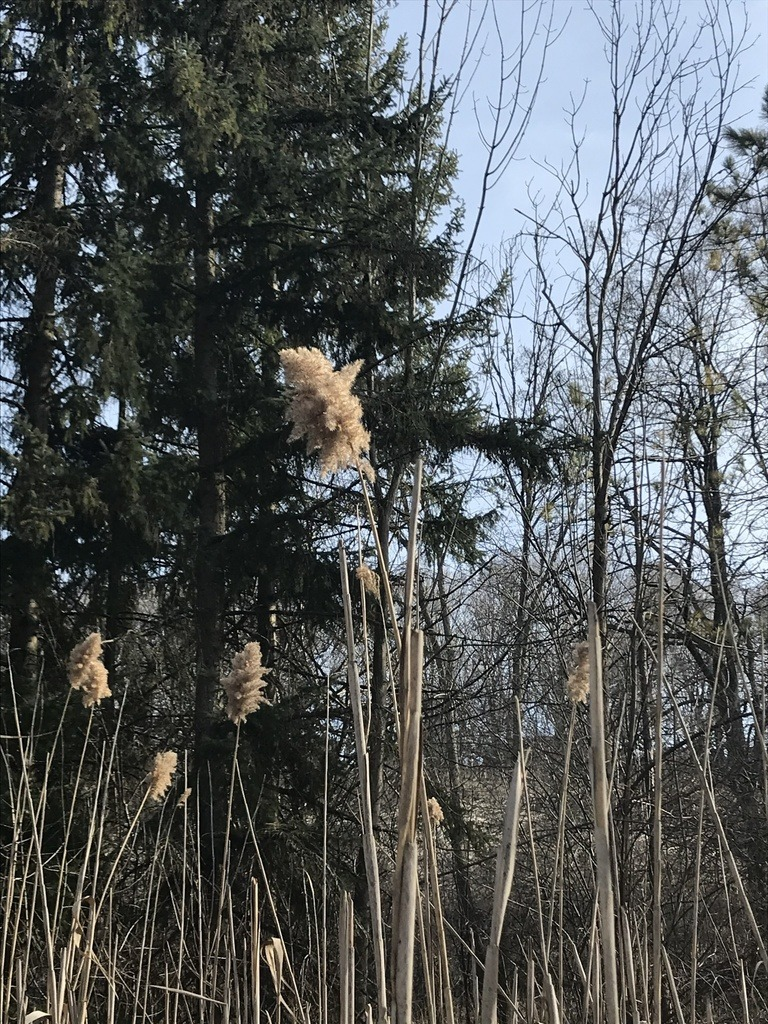common reed: (3, 344, 766, 1018)
